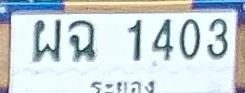0: (179, 18, 200, 60)
1: (128, 19, 142, 61)
3: (206, 18, 227, 59)
4: (151, 18, 173, 60)
A09: (68, 20, 96, 62)
A28: (32, 19, 61, 62)
RYG: (86, 77, 158, 93)
